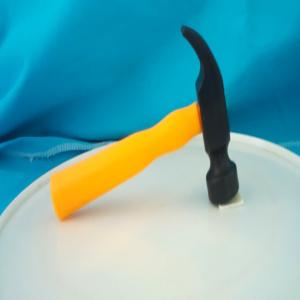martelo: (50, 24, 239, 224)
